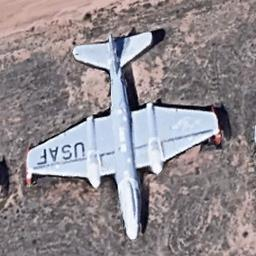Airplane: (24, 26, 232, 240)
